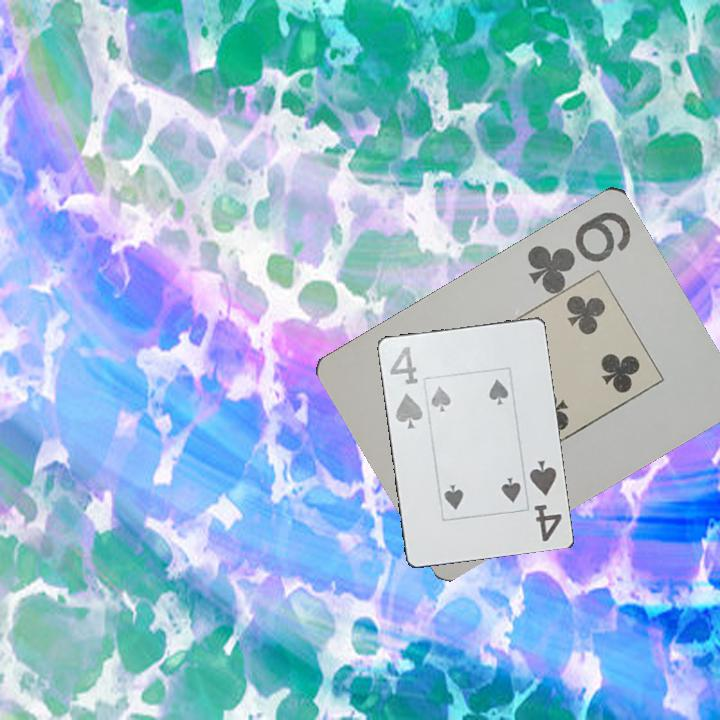4s: (386, 343, 426, 431), (526, 455, 565, 545)
6c: (523, 207, 635, 295)
